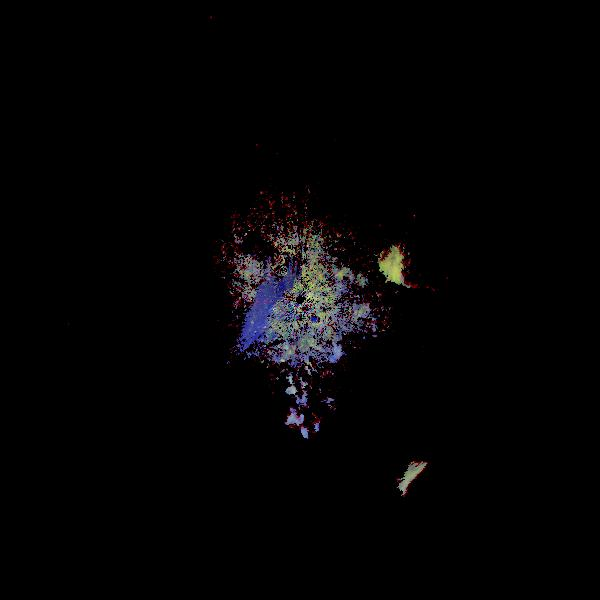roost: (344, 142, 518, 316), (394, 446, 475, 527)
